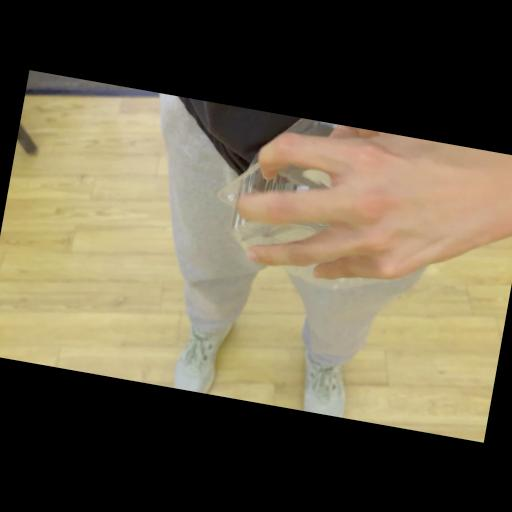small_plastic_container: (206, 107, 418, 297)
